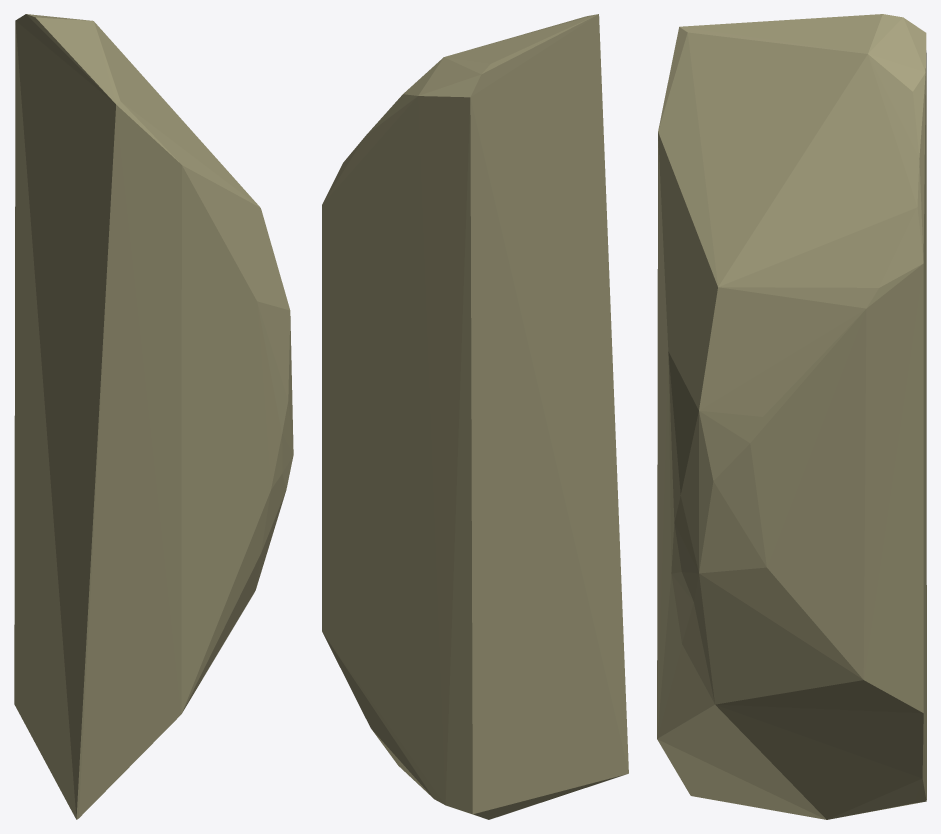
The model's file is bodyPart_bumper_front_d01.glb.
The picture shows the model from 3 angles, left to right: view 1: azimuth 30°, elevation 25°; view 2: azimuth 150°, elevation 25°; view 3: azimuth 270°, elevation 25°; orthographic projection. The views are drawn at different scales.
Parts seen in each view (by area): view 1: geometry_0; view 2: geometry_0; view 3: geometry_0.
Boxes of the visible parts, <box> form: geometry_0: <box>14,14,293,819</box>; geometry_0: <box>322,14,628,819</box>; geometry_0: <box>657,14,926,819</box>.
Size of the model in its own units: 0.1518 by 0.4715 by 0.143.
